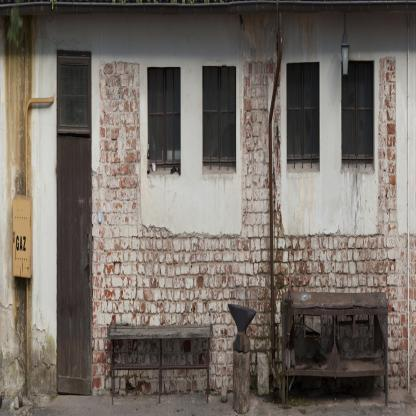Building Outline: (0, 0, 416, 394)
Dont: (278, 274, 389, 408), (107, 324, 213, 405), (228, 302, 258, 414)
Door: (58, 135, 92, 395)
Facade: (0, 0, 416, 394)
Ground Floor: (0, 0, 416, 394)
Window: (203, 66, 236, 167), (148, 67, 181, 167), (287, 63, 320, 163), (341, 61, 373, 163), (60, 65, 88, 126)
